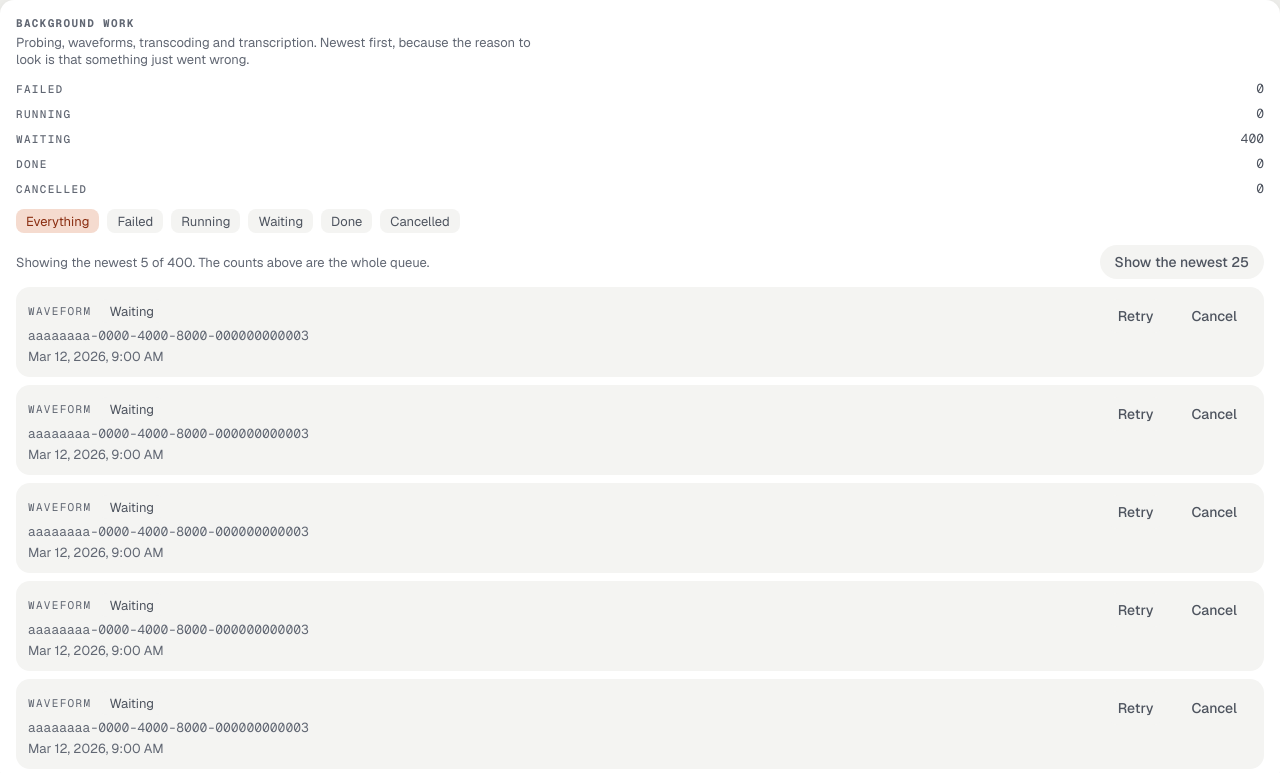
Test case: four hundred jobs after a bulk import › collapses back to the newest few when the filter changes
What coordinates should you click on to do the following:
click the button "Show the newest 25"
I would click on:
 (1182, 262)
Its box is [1100, 245, 1264, 279].
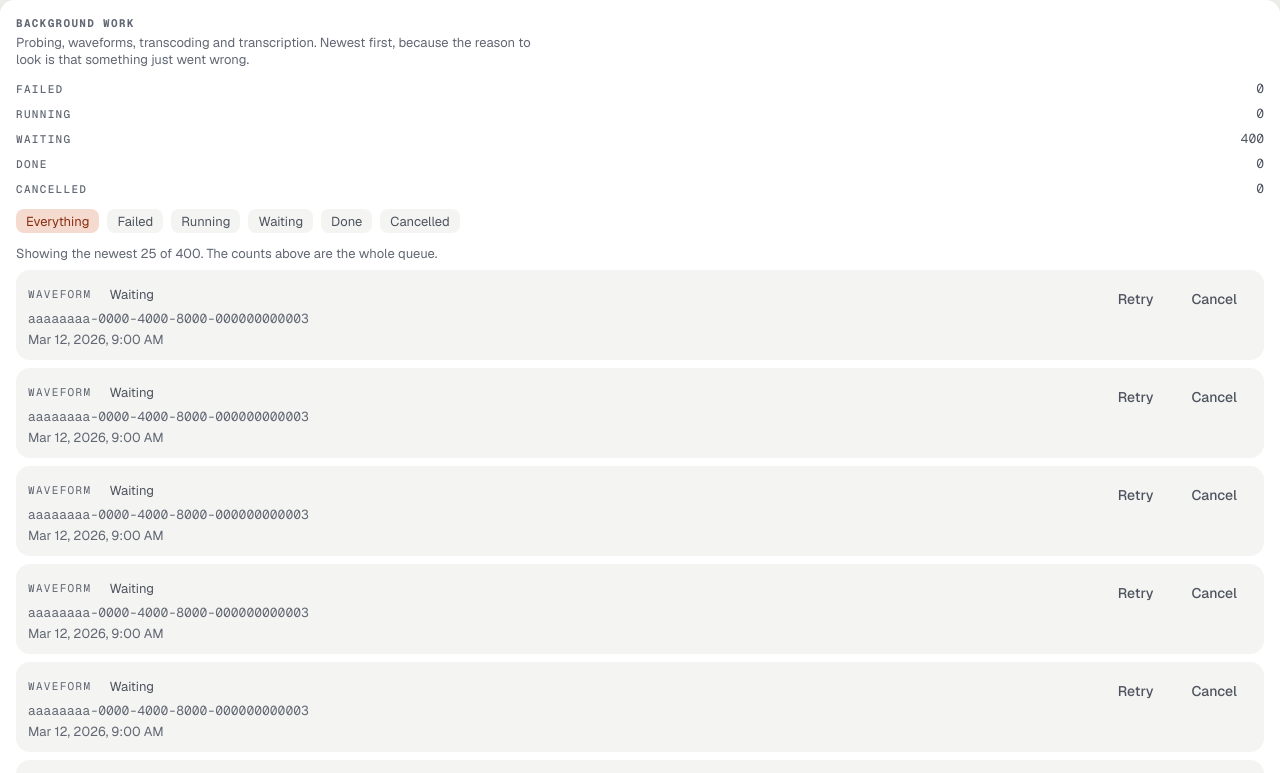
Now the text "Showing the newest 25 of 400" is shown, box [16, 245, 438, 262]
What coordinates should you click on to do the following:
click the button "Waiting"
I would click on:
 (281, 221)
Its box is [248, 209, 313, 233].
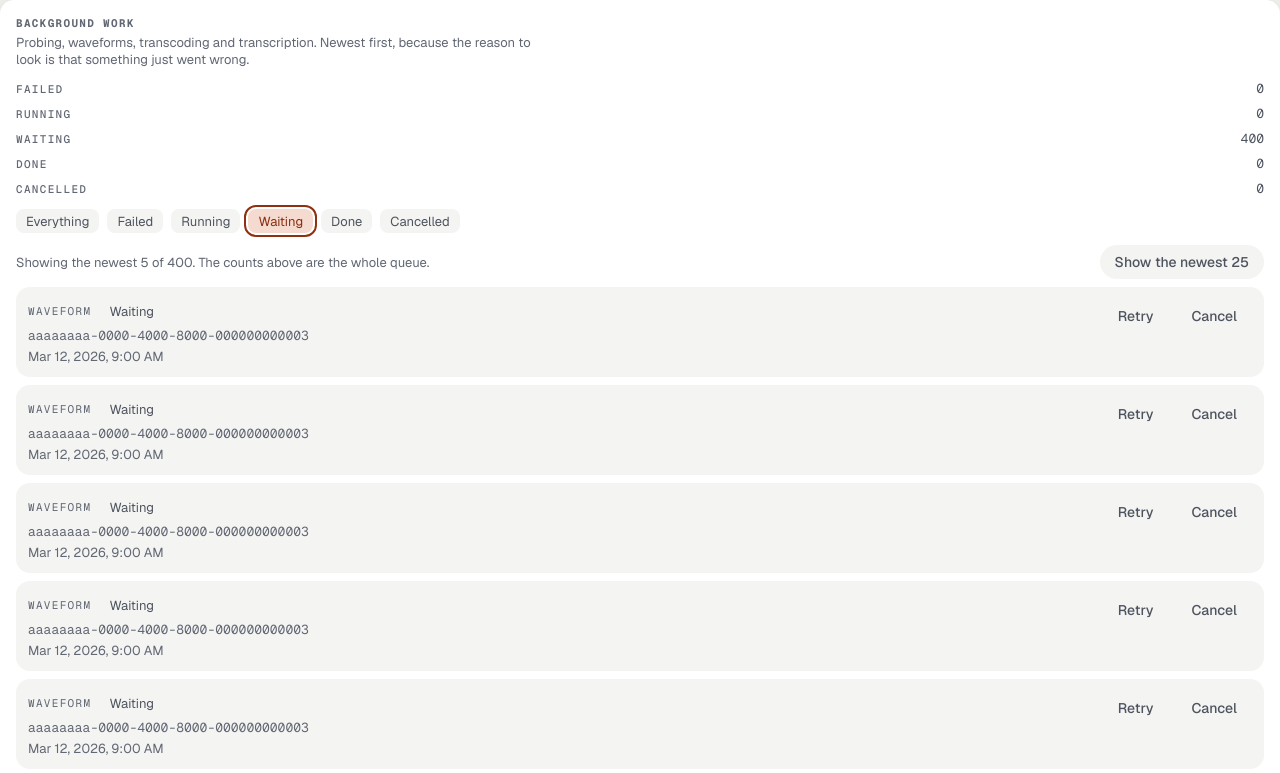
Now the text "Showing the newest 5 of 400" is shown, box [16, 254, 430, 270]
